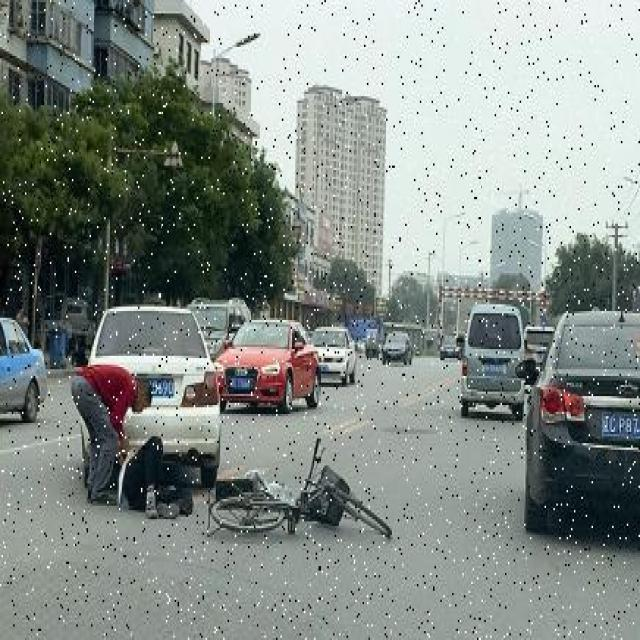fall: (107, 434, 192, 524)
